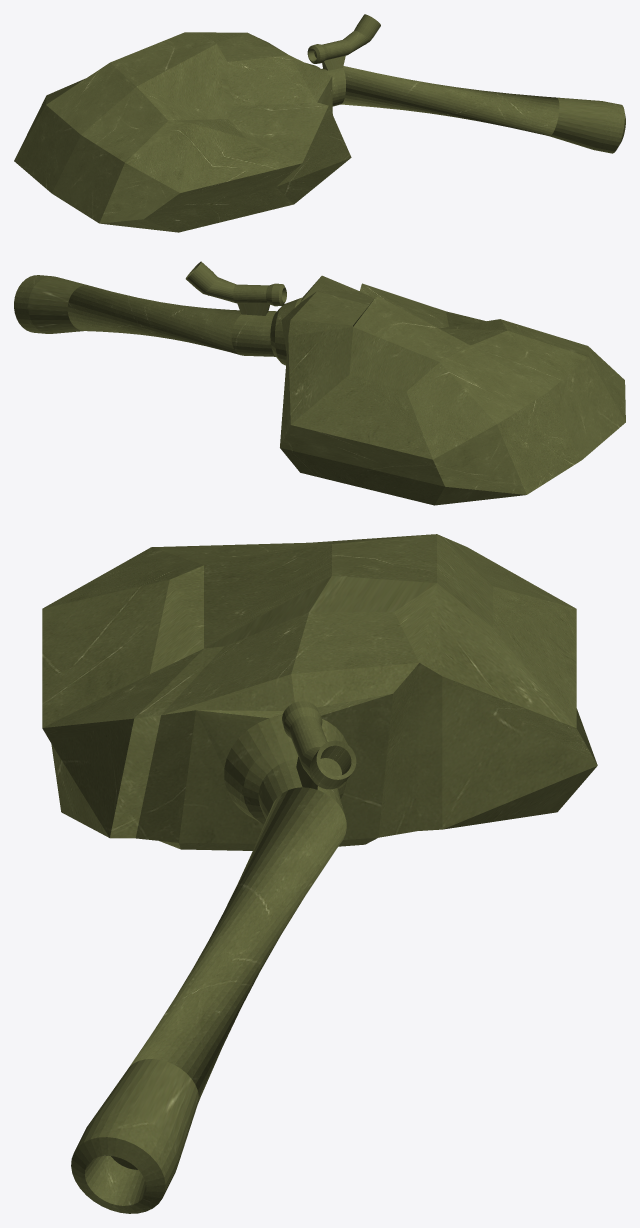
The model's file is SniperDamaged.fbx.
The picture shows the model from 3 angles, top to bottom: view 1: azimuth 30°, elevation 25°; view 2: azimuth 150°, elevation 25°; view 3: azimuth 270°, elevation 25°; orthographic projection. The views are drawn at different scales.
Parts seen in each view (by area): view 1: SniperDamaged; view 2: SniperDamaged; view 3: SniperDamaged.
Boxes of the visible parts, <box> form: SniperDamaged: <box>14,14,625,232</box>; SniperDamaged: <box>14,261,625,505</box>; SniperDamaged: <box>42,534,597,1213</box>.
Bounding box in the file's own units: 859 × 520 × 1879.
